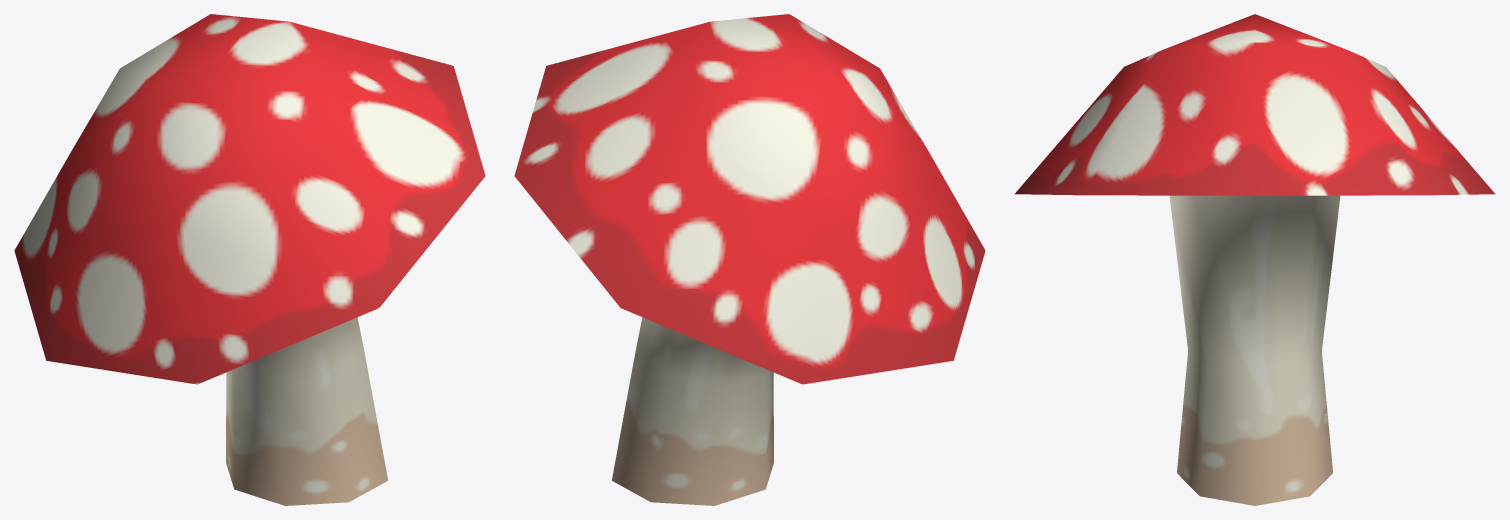
File: cogumelo01.FBX
3 renders of one model, left to right at view 1: azimuth 30°, elevation 25°; view 2: azimuth 150°, elevation 25°; view 3: azimuth 270°, elevation 25°, orthographic. The views are drawn at different scales.
Visible parts, largest first — view 1: cogumelo01; view 2: cogumelo01; view 3: cogumelo01.
Boxes of the visible parts, x1,y1,x2,y2 form: cogumelo01: (14, 14, 485, 505); cogumelo01: (514, 14, 985, 505); cogumelo01: (1015, 14, 1495, 505).
Size of the model in its own units: 36.04 by 38.39 by 39.64.
